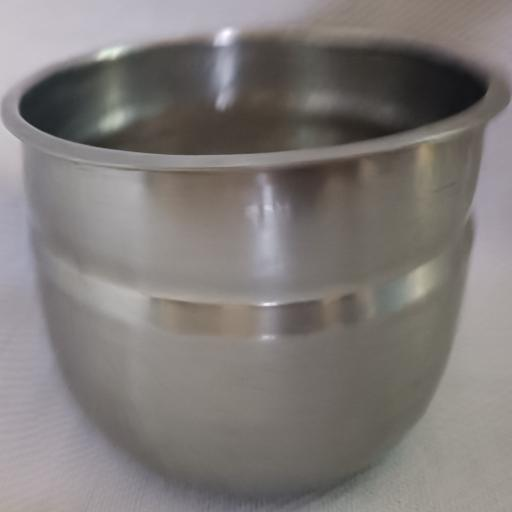vessel: (3, 30, 509, 493)
